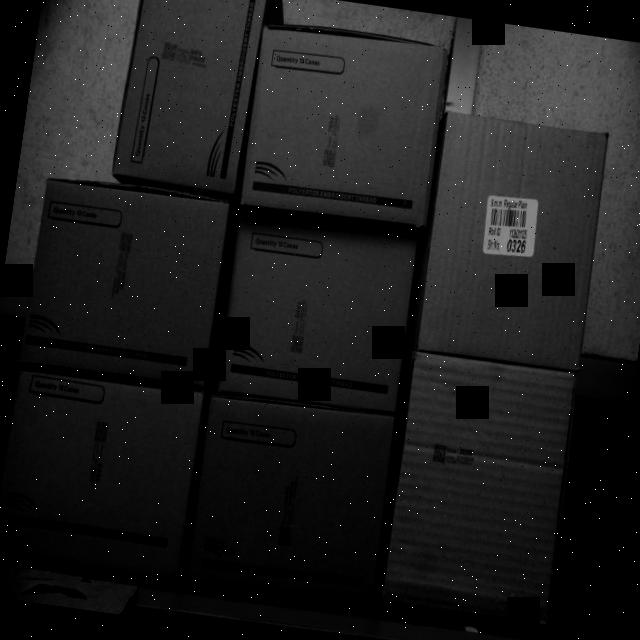box: (376, 348, 580, 625), (410, 107, 612, 370), (236, 18, 449, 234), (0, 367, 205, 583), (190, 398, 400, 606), (18, 174, 228, 382), (216, 209, 419, 412), (116, 0, 265, 199)
